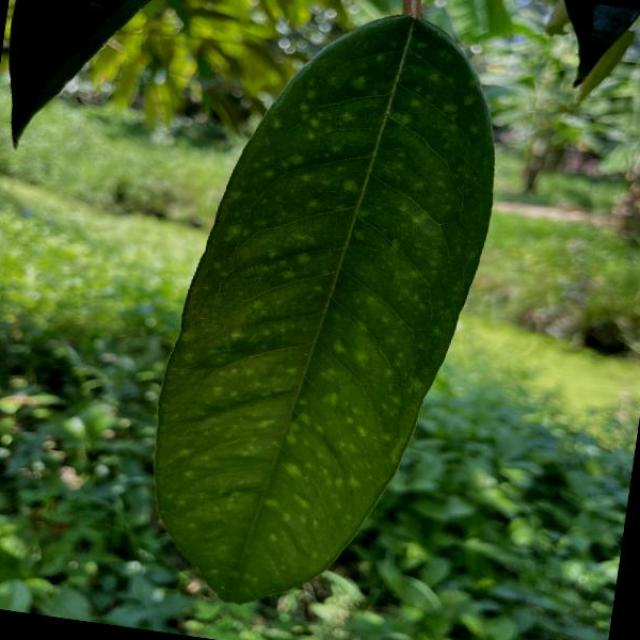Leaf Spot: (130, 0, 526, 632)
